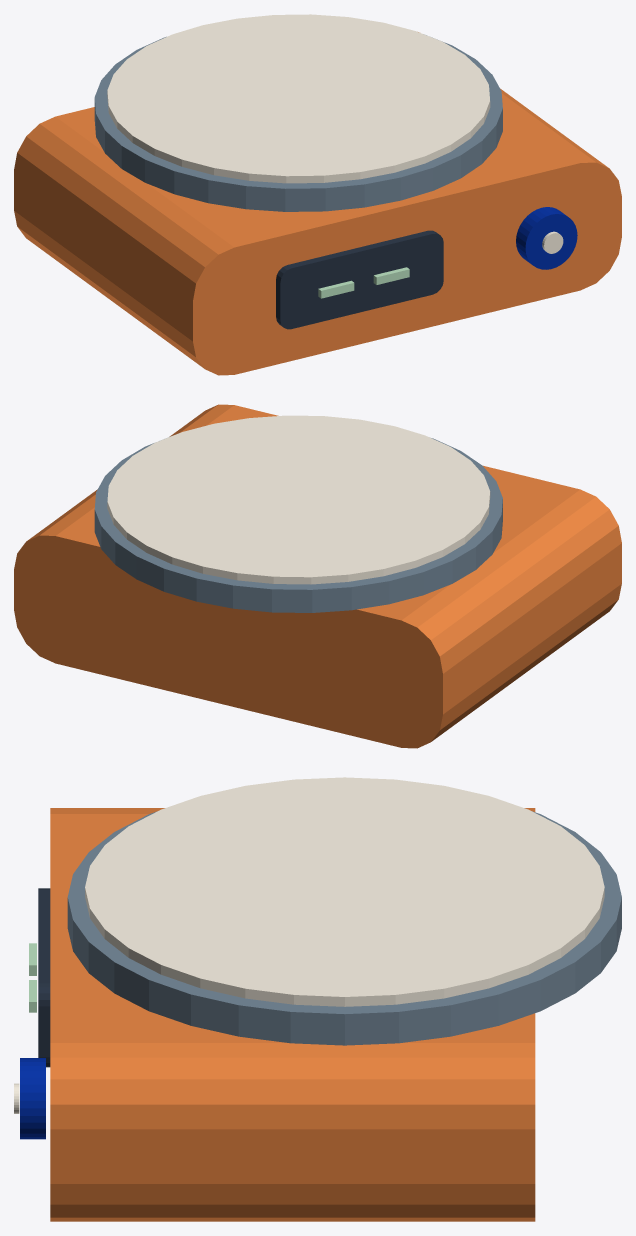
Rendered from scale.glb.
3 views of the same model, one above another, from view 1: azimuth 30°, elevation 25°; view 2: azimuth 150°, elevation 25°; view 3: azimuth 270°, elevation 25° (orthographic). The views are drawn at different scales.
Parts seen in each view (by area): view 1: base, plate face, weighing plate, screen, tare key; view 2: base, plate face, weighing plate; view 3: base, plate face, weighing plate, screen, tare key.
Part boxes in pixels (bbox=[...]): base: bbox=[14, 32, 621, 375]; plate face: bbox=[107, 14, 490, 183]; weighing plate: bbox=[94, 35, 502, 211]; screen: bbox=[276, 230, 443, 329]; tare key: bbox=[516, 207, 577, 269]; base: bbox=[14, 404, 621, 748]; plate face: bbox=[107, 415, 490, 584]; weighing plate: bbox=[94, 438, 502, 612]; base: bbox=[50, 808, 535, 1221]; plate face: bbox=[85, 777, 604, 1006]; weighing plate: bbox=[67, 811, 621, 1045]; screen: bbox=[38, 888, 50, 1067]; tare key: bbox=[20, 1058, 45, 1139].
Size of the model in its own units: 1.55 by 0.545 by 1.4.
